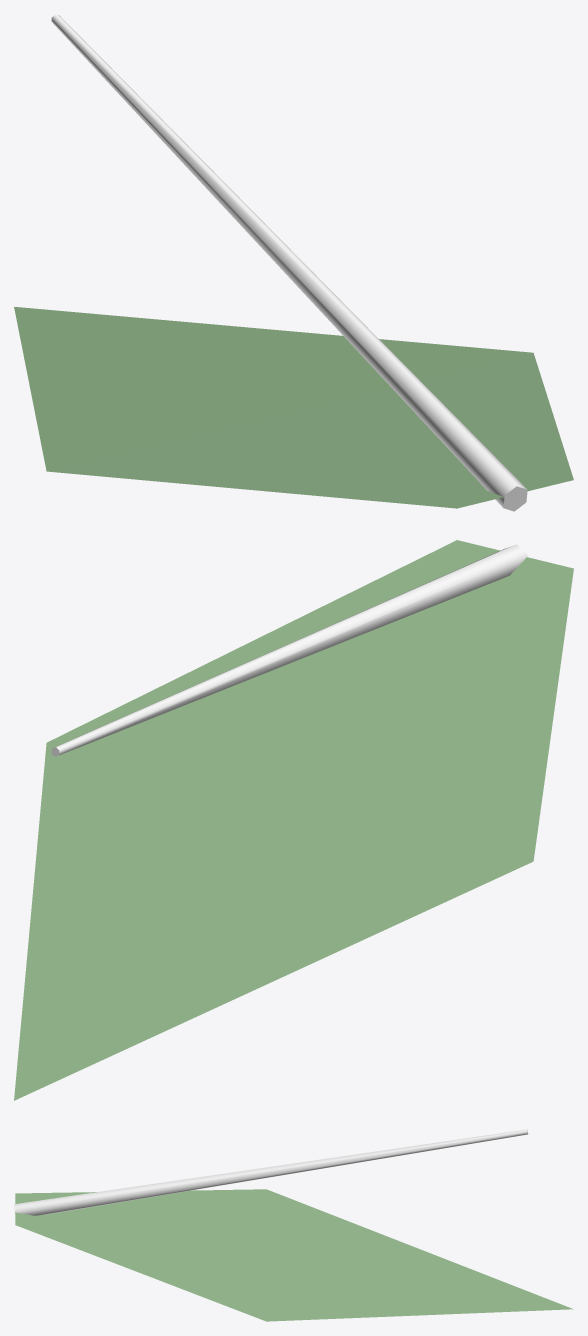
The model's file is beanstalk_leaf.glb.
The picture shows the model from 3 angles, top to bottom: view 1: azimuth 30°, elevation 25°; view 2: azimuth 150°, elevation 25°; view 3: azimuth 270°, elevation 25°; orthographic projection. The views are drawn at different scales.
Parts seen in each view (by area): view 1: Beanstalk_leaf; view 2: Beanstalk_leaf; view 3: Beanstalk_leaf.
Boxes of the visible parts, x1=… form: Beanstalk_leaf: x1=14, y1=14, x2=573, y2=511; Beanstalk_leaf: x1=14, y1=540, x2=573, y2=1100; Beanstalk_leaf: x1=14, y1=1129, x2=573, y2=1321.
Bounding box in the file's own units: 2.2 × 1.39 × 3.93.
